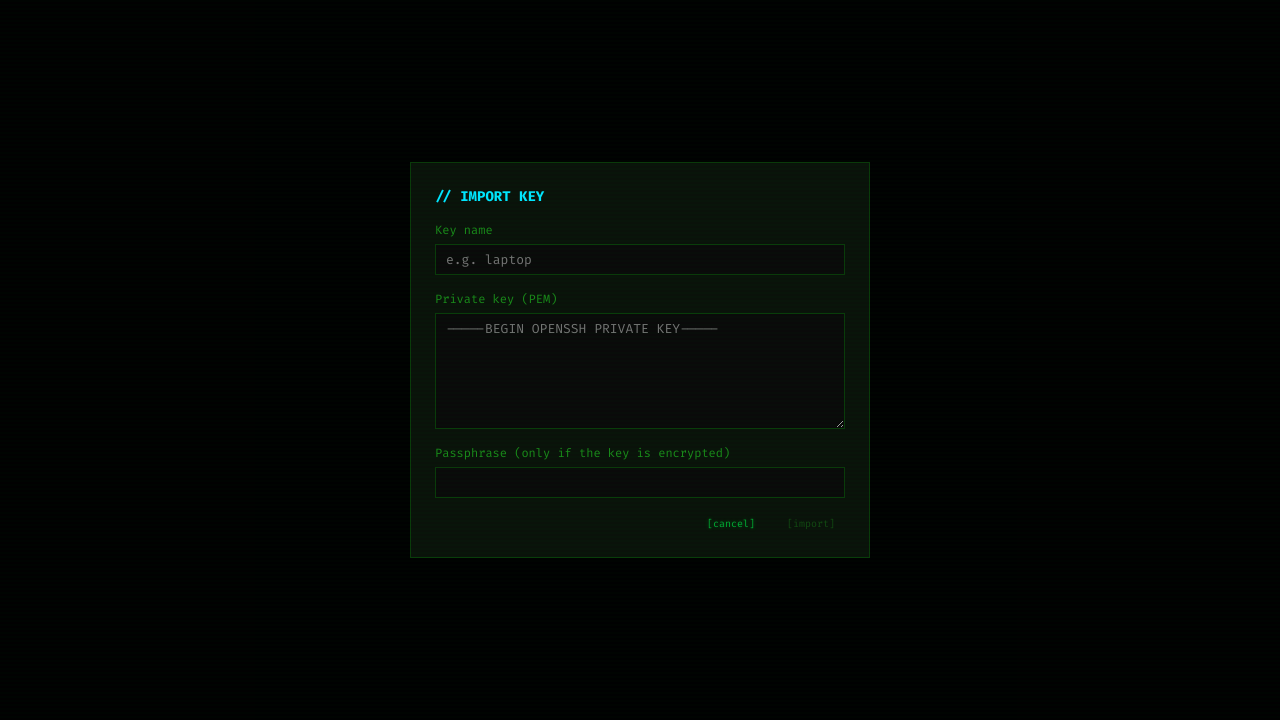
Test: ImportKeyModal › shows the error and saves nothing when key parsing fails
Type "laptop" into the field labelled "Key name".
click(640, 260); type("laptop")  # box [435, 244, 845, 275]
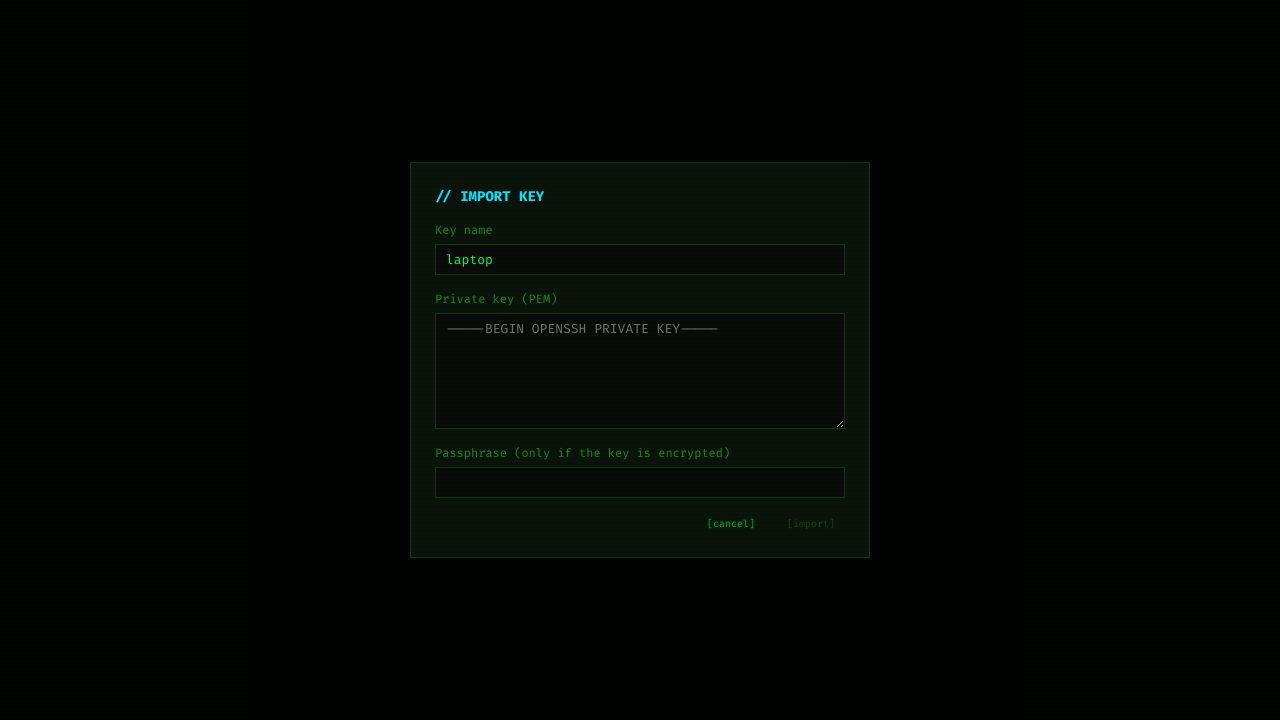
Type "garbage" into the text box labelled "Private key (PEM)".
click(640, 371); type("garbage")  # box [435, 313, 845, 429]
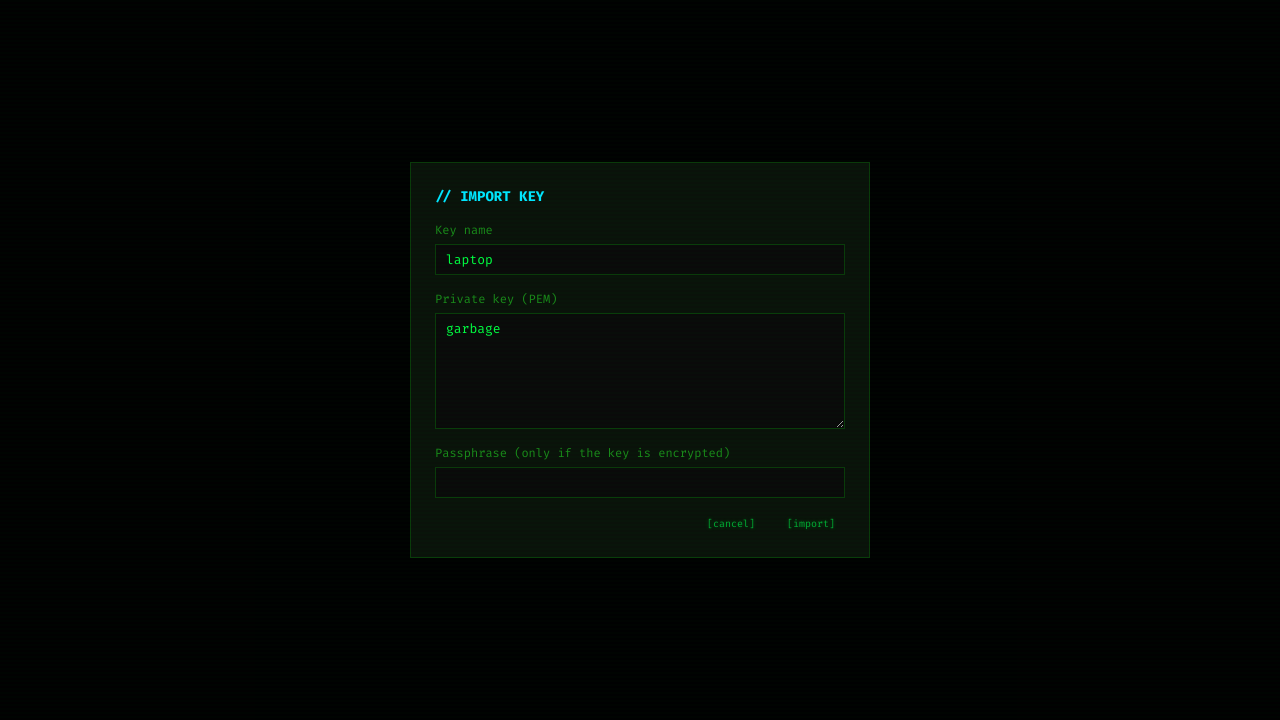
Click the button "[import]".
click(811, 524)  # box [777, 514, 845, 533]
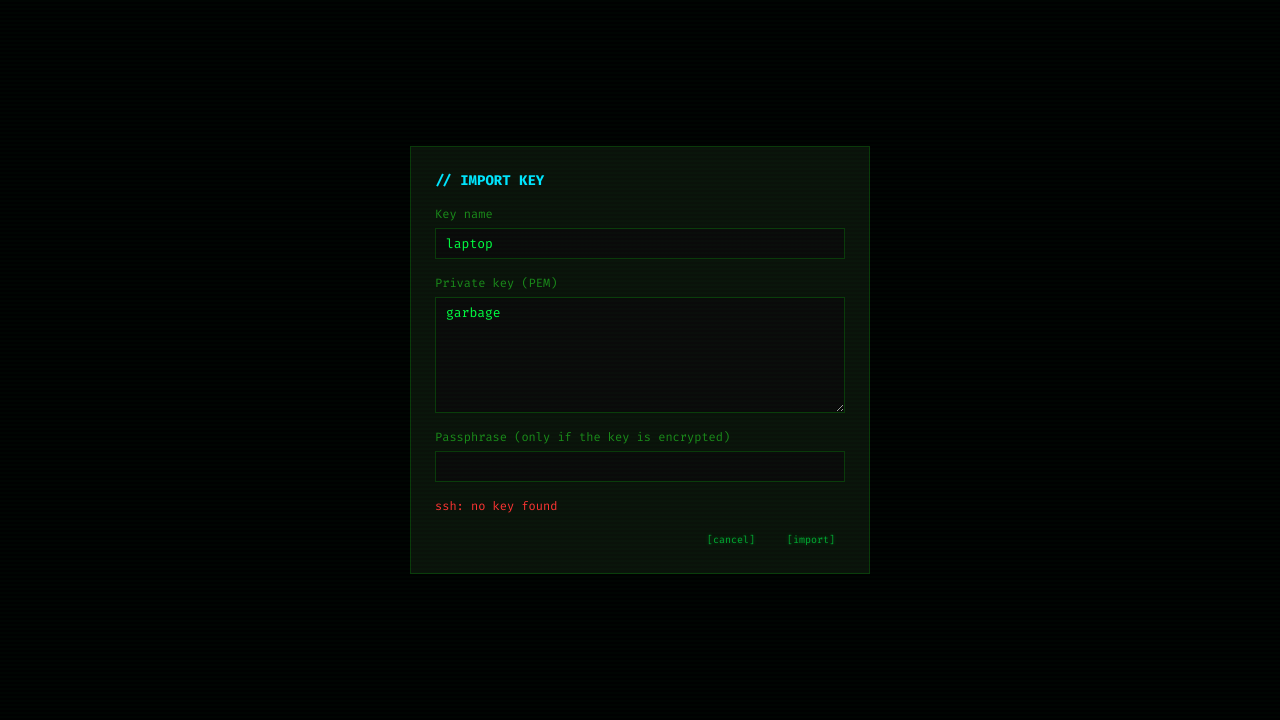
Expected: the text "// IMPORT KEY" is shown, [435, 171, 544, 190]
Result: the text "ssh: no key found" is shown at [435, 498, 557, 514]
